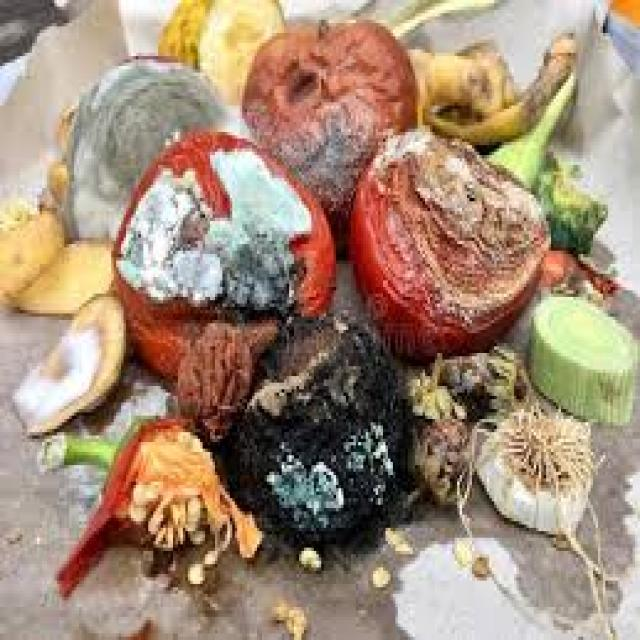organic waste: (109, 129, 331, 376), (348, 116, 548, 350), (222, 300, 396, 544), (240, 10, 415, 251), (54, 53, 235, 241), (52, 416, 259, 580), (400, 30, 571, 142), (10, 293, 126, 429), (526, 290, 635, 419), (479, 406, 593, 528), (153, 0, 281, 102), (487, 62, 576, 184), (398, 363, 467, 505), (176, 316, 247, 438), (430, 343, 529, 419), (12, 234, 109, 310), (0, 188, 59, 297), (534, 165, 603, 251), (351, 0, 504, 36), (534, 240, 613, 294), (34, 155, 66, 208), (52, 102, 74, 145), (294, 538, 321, 567), (284, 604, 304, 633), (183, 554, 207, 578), (368, 561, 391, 584), (269, 594, 287, 620), (450, 531, 467, 558), (469, 551, 487, 574), (378, 518, 395, 538), (390, 534, 408, 551), (200, 548, 218, 560)
